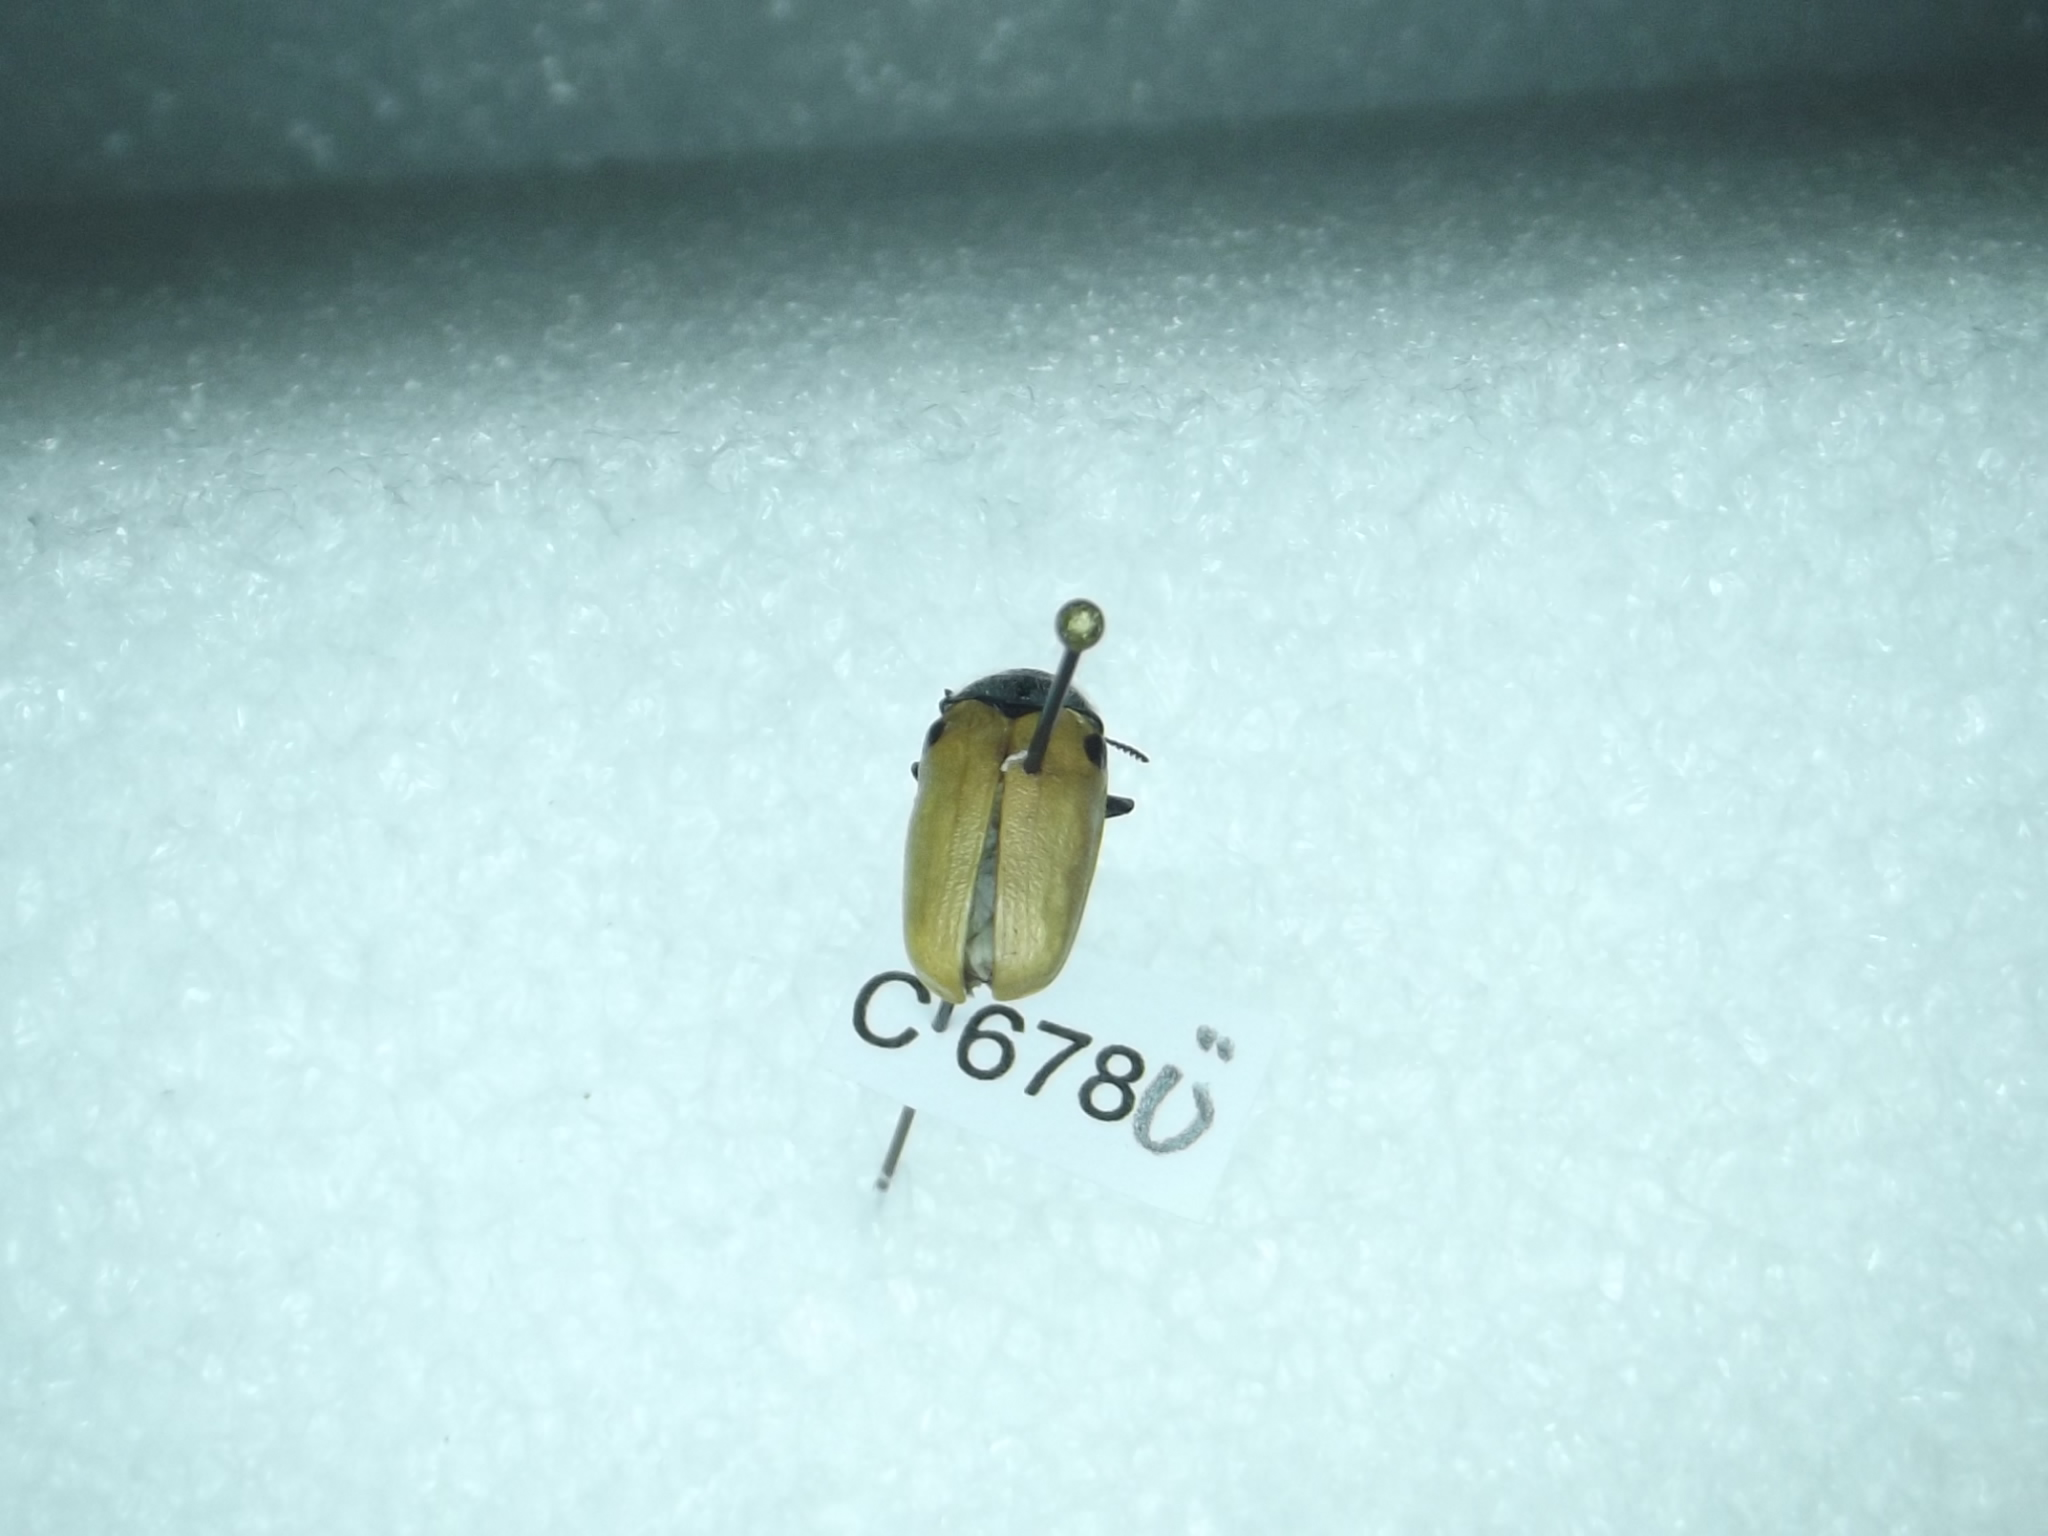Labidostomis_longimana: (893, 623, 1135, 1015)
